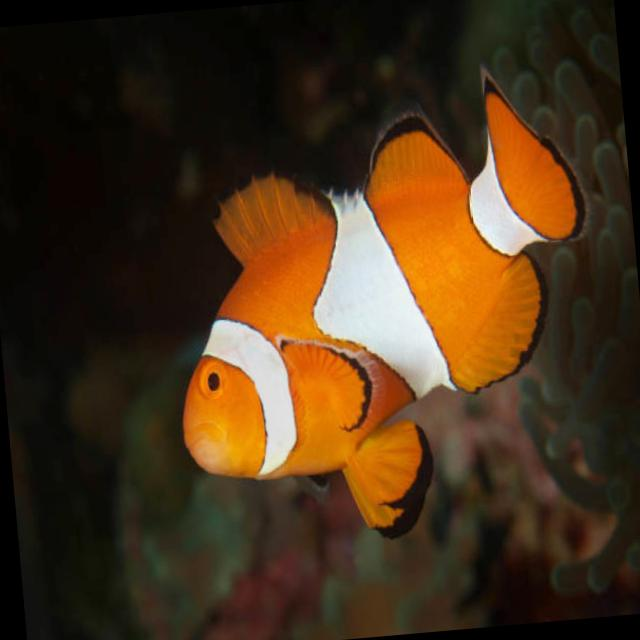ClownFish: (152, 61, 612, 542)
